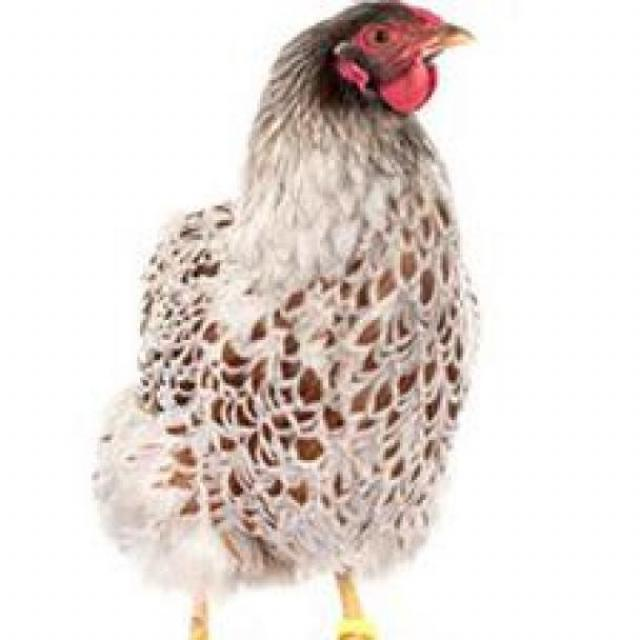Chicken: (65, 0, 510, 640)
